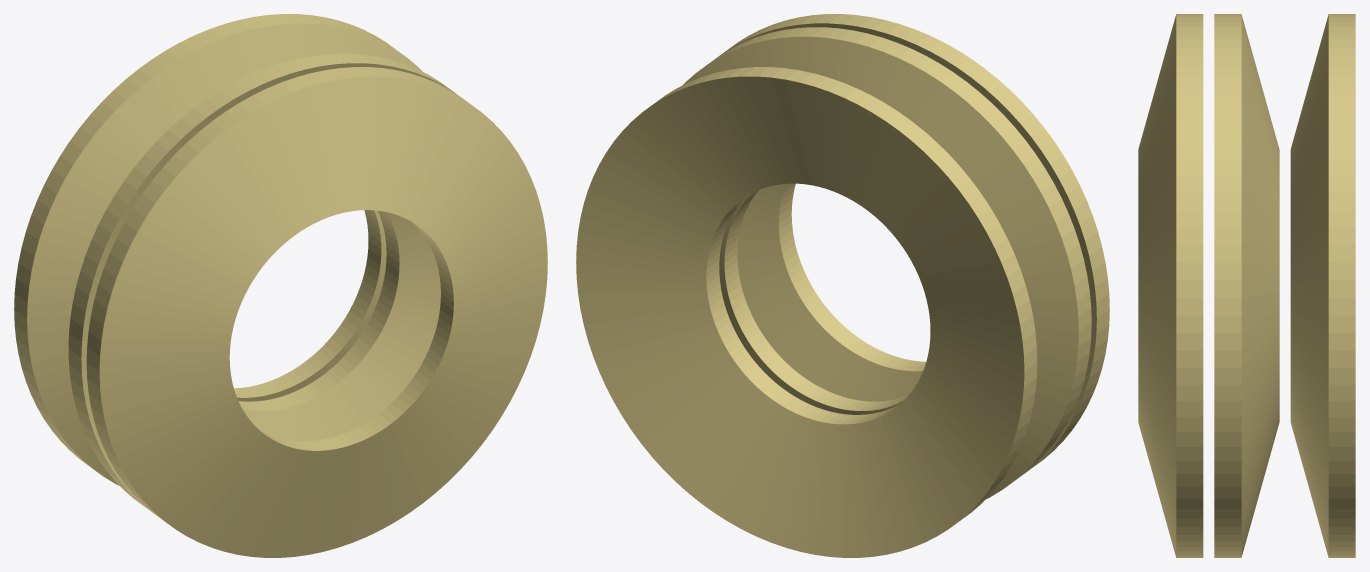
The model's file is belleville_washer_demo.glb.
3 views of the same model, side by side, from view 1: azimuth 30°, elevation 25°; view 2: azimuth 150°, elevation 25°; view 3: azimuth 270°, elevation 25° (orthographic). The views are drawn at different scales.
Parts seen in each view (by area): view 1: belleville_stack; view 2: belleville_stack; view 3: belleville_stack.
Boxes of the visible parts, x1,y1,x2,y2 form: belleville_stack: (14,14,547,557); belleville_stack: (576,14,1109,557); belleville_stack: (1138,14,1355,557).
Size of the model in its own units: 20 by 20 by 8.
